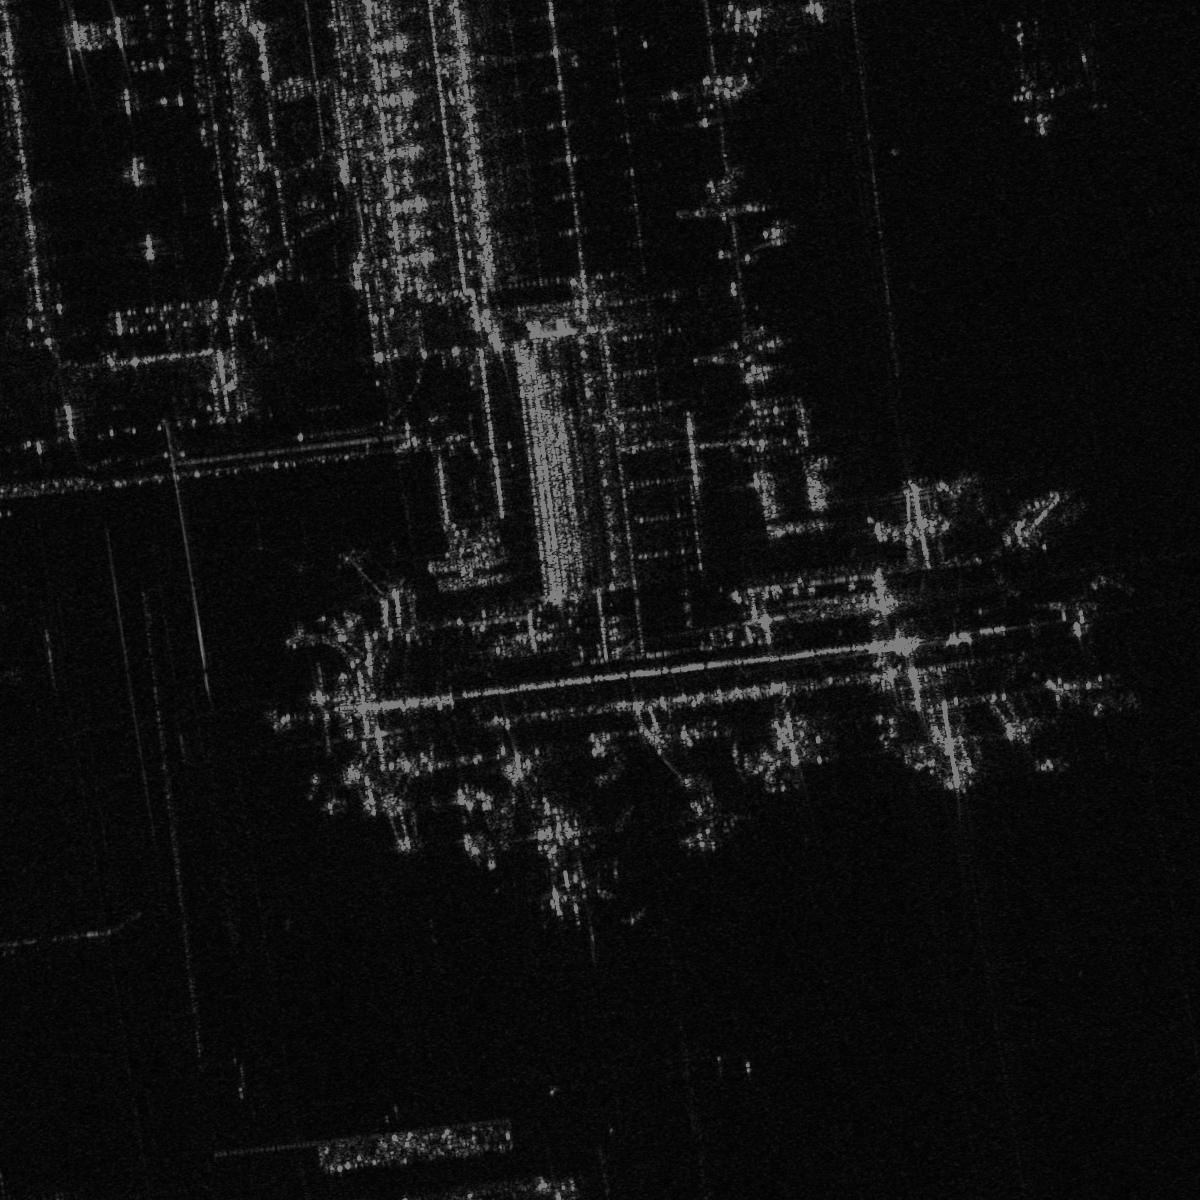Boeing787: (685, 160, 785, 248)
